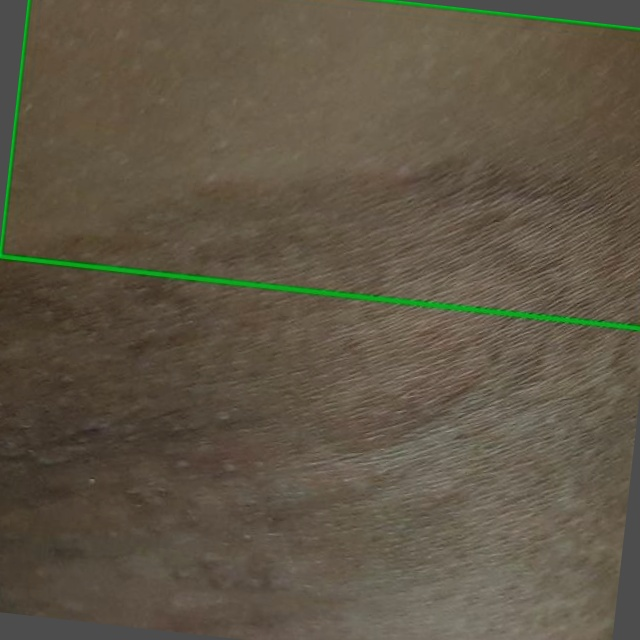Tinea Corporis: (0, 0, 639, 328)
